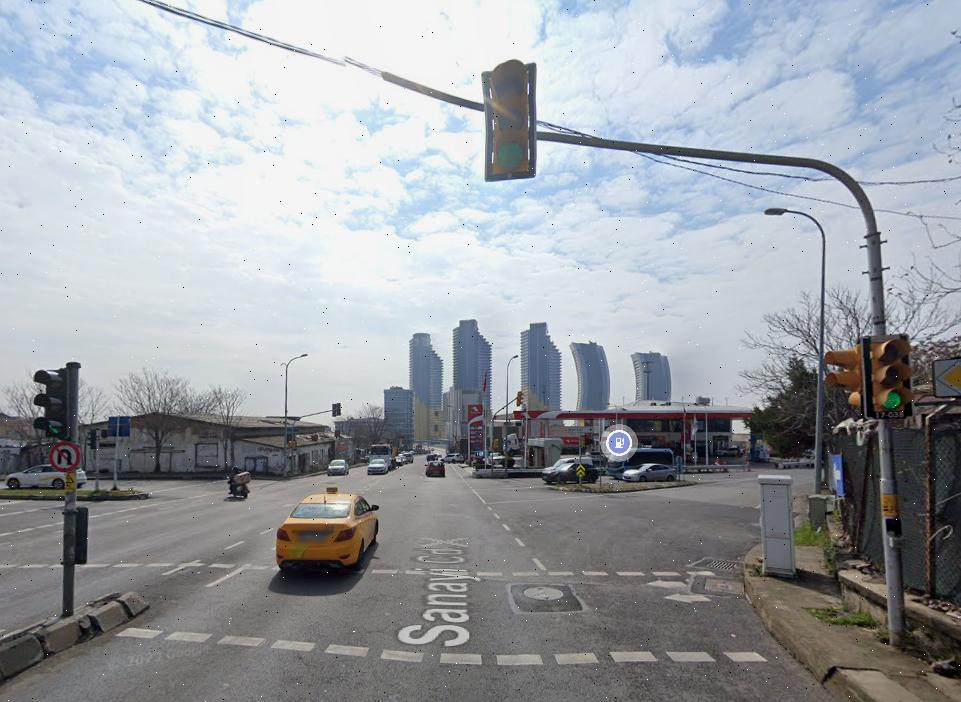greenlight: (485, 62, 535, 172), (872, 335, 917, 417), (34, 368, 71, 433)
